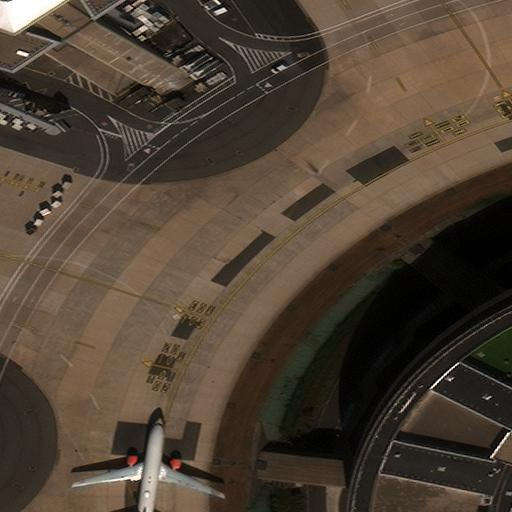Medium Civil Transport: (72, 417, 224, 511)
